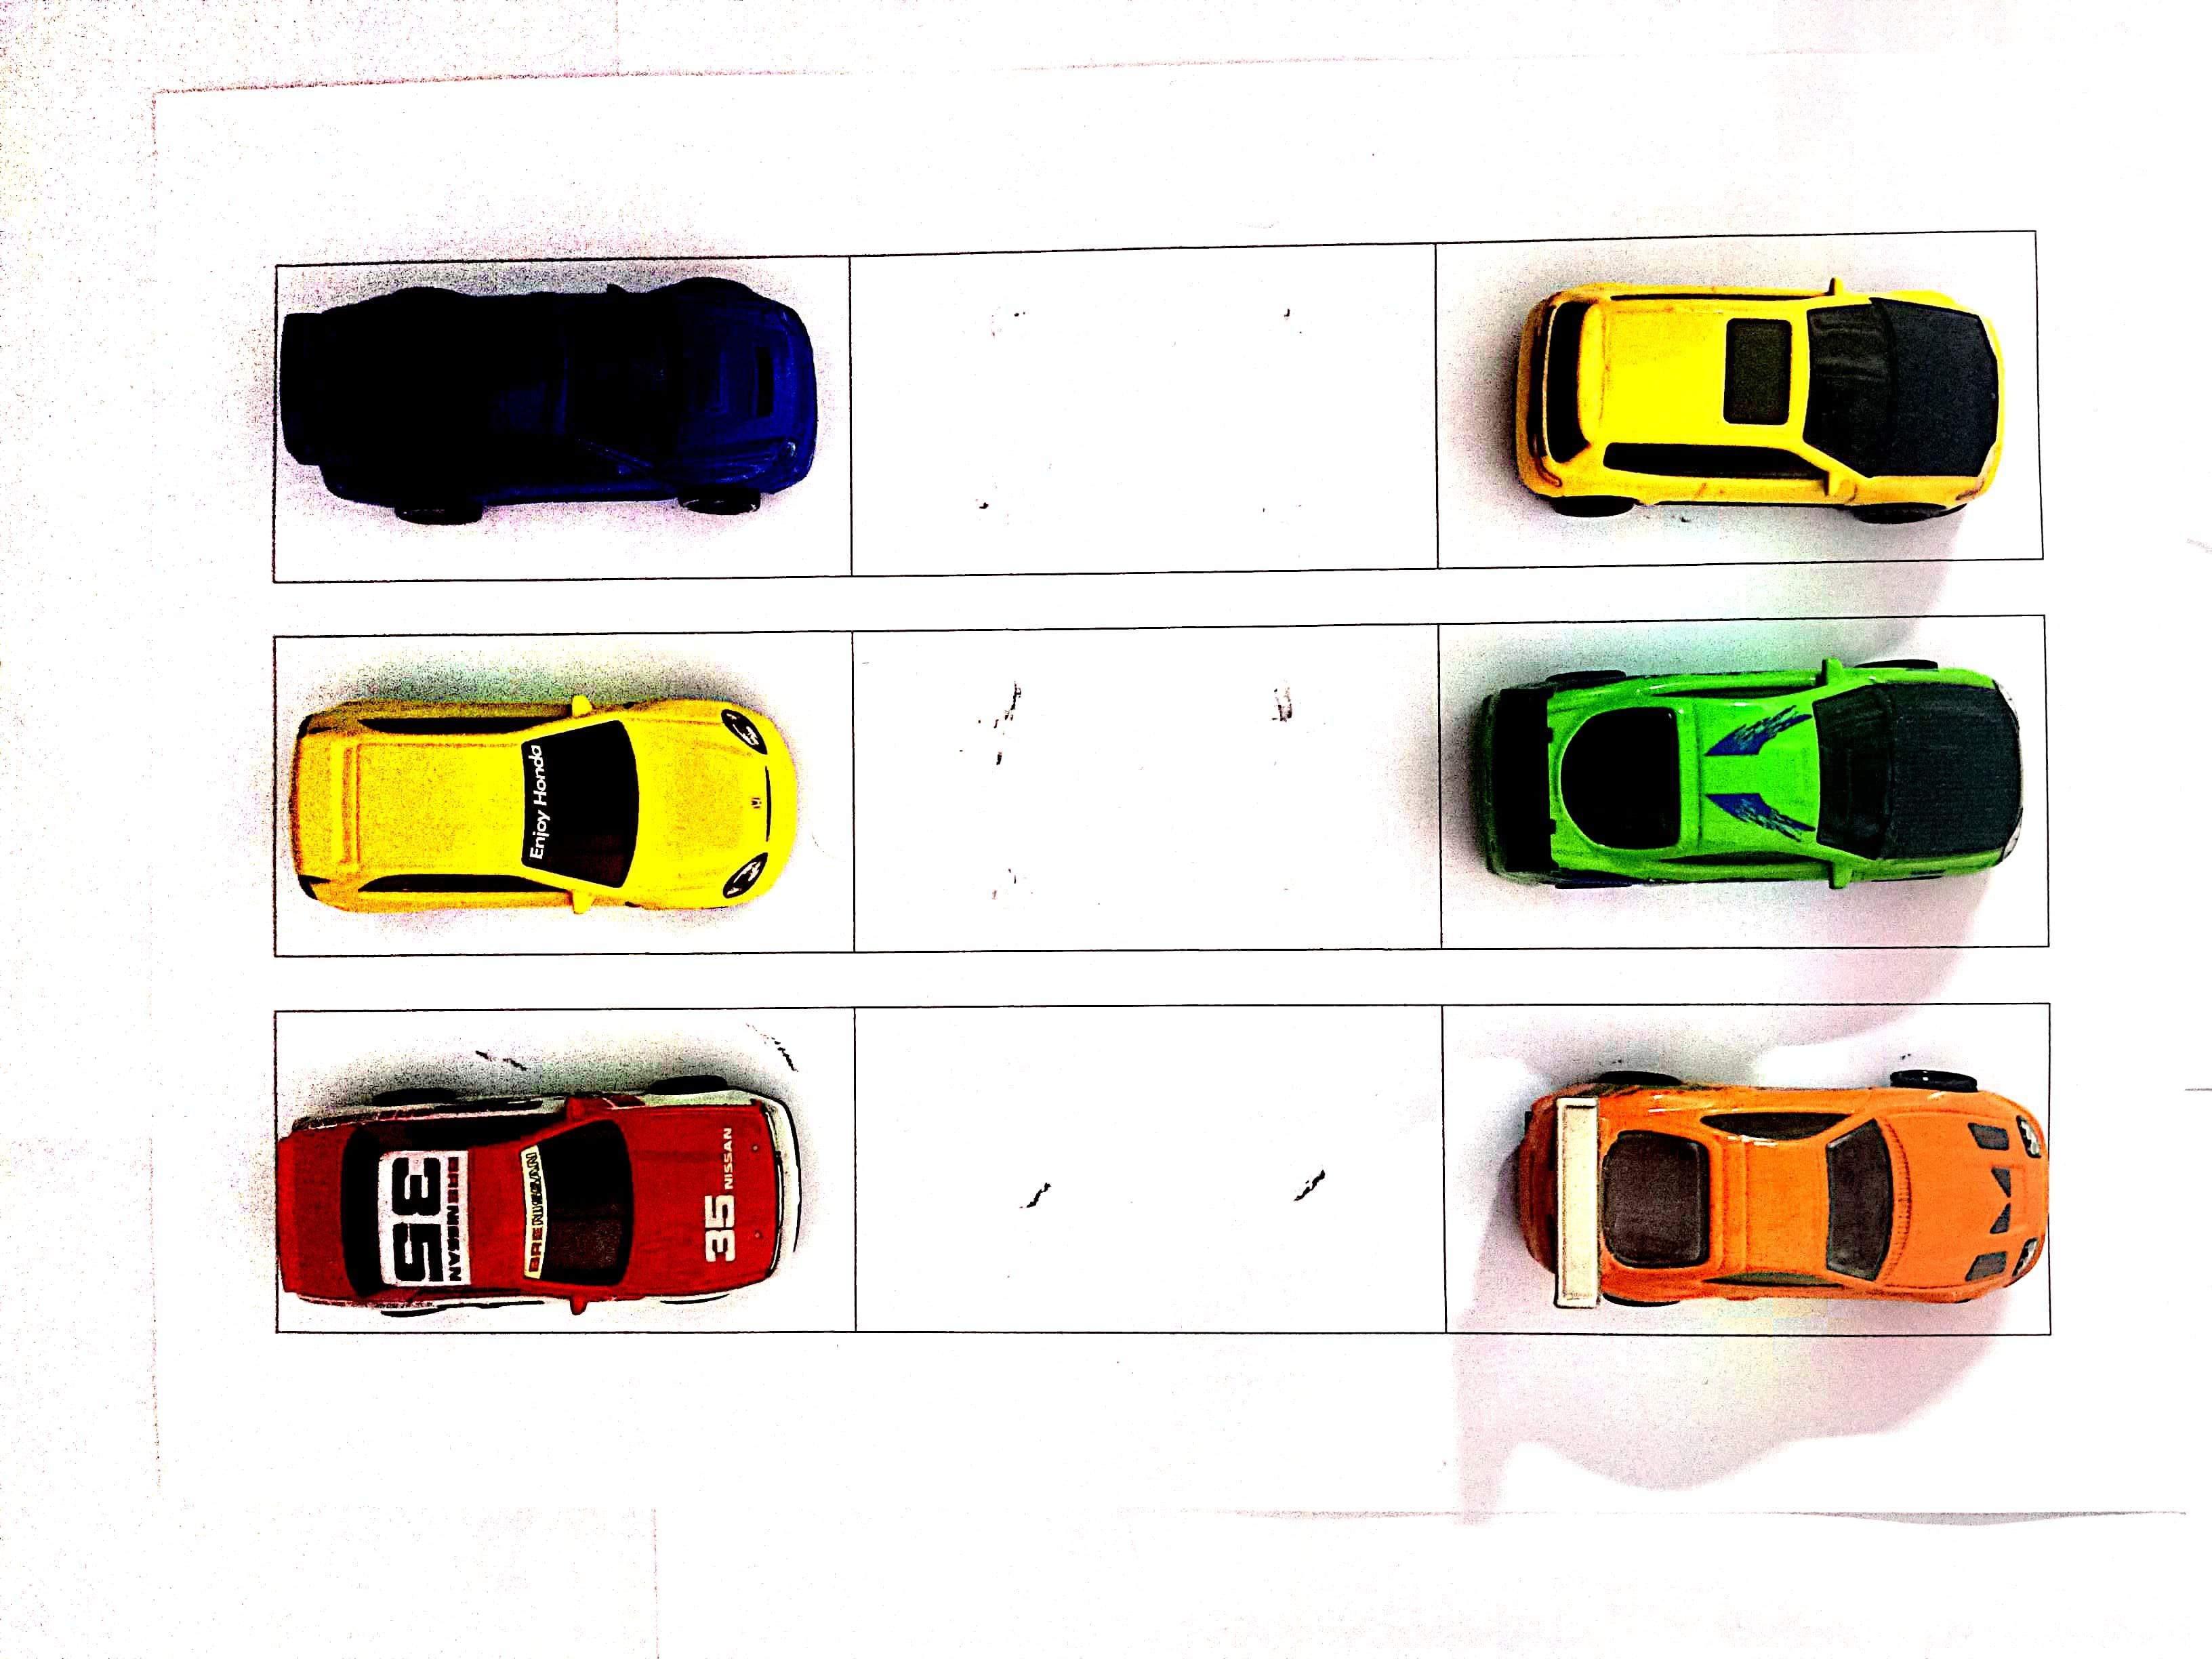Busy: (1446, 1000, 2045, 1331), (1437, 615, 2045, 941), (1440, 235, 2033, 559), (270, 263, 848, 584), (277, 1011, 860, 1328), (273, 640, 848, 945)
Free: (857, 619, 1433, 950), (857, 253, 1437, 577), (860, 1009, 1433, 1331)
